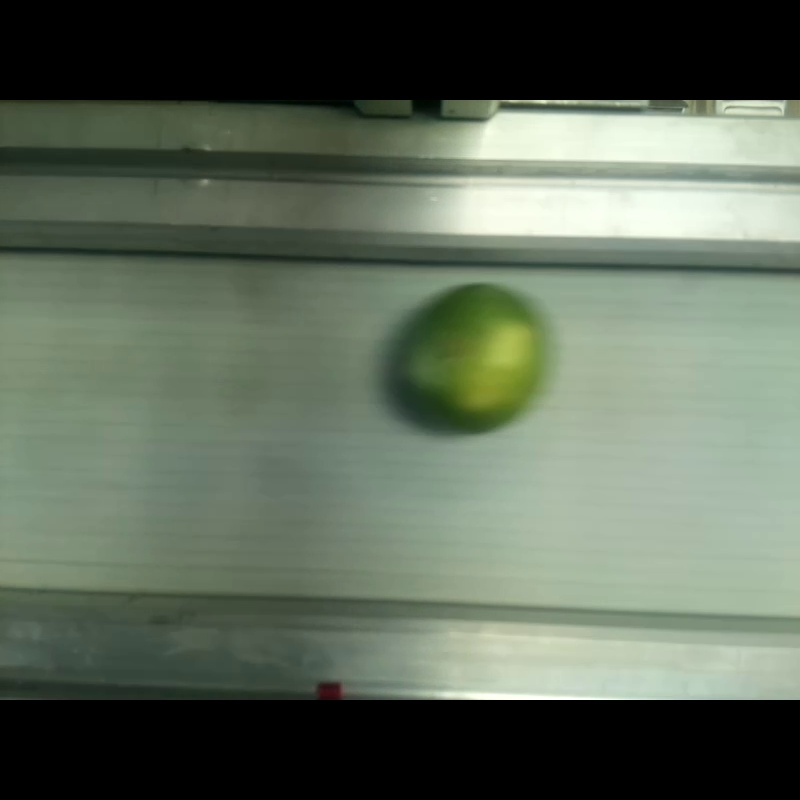lime: (393, 282, 544, 434)
